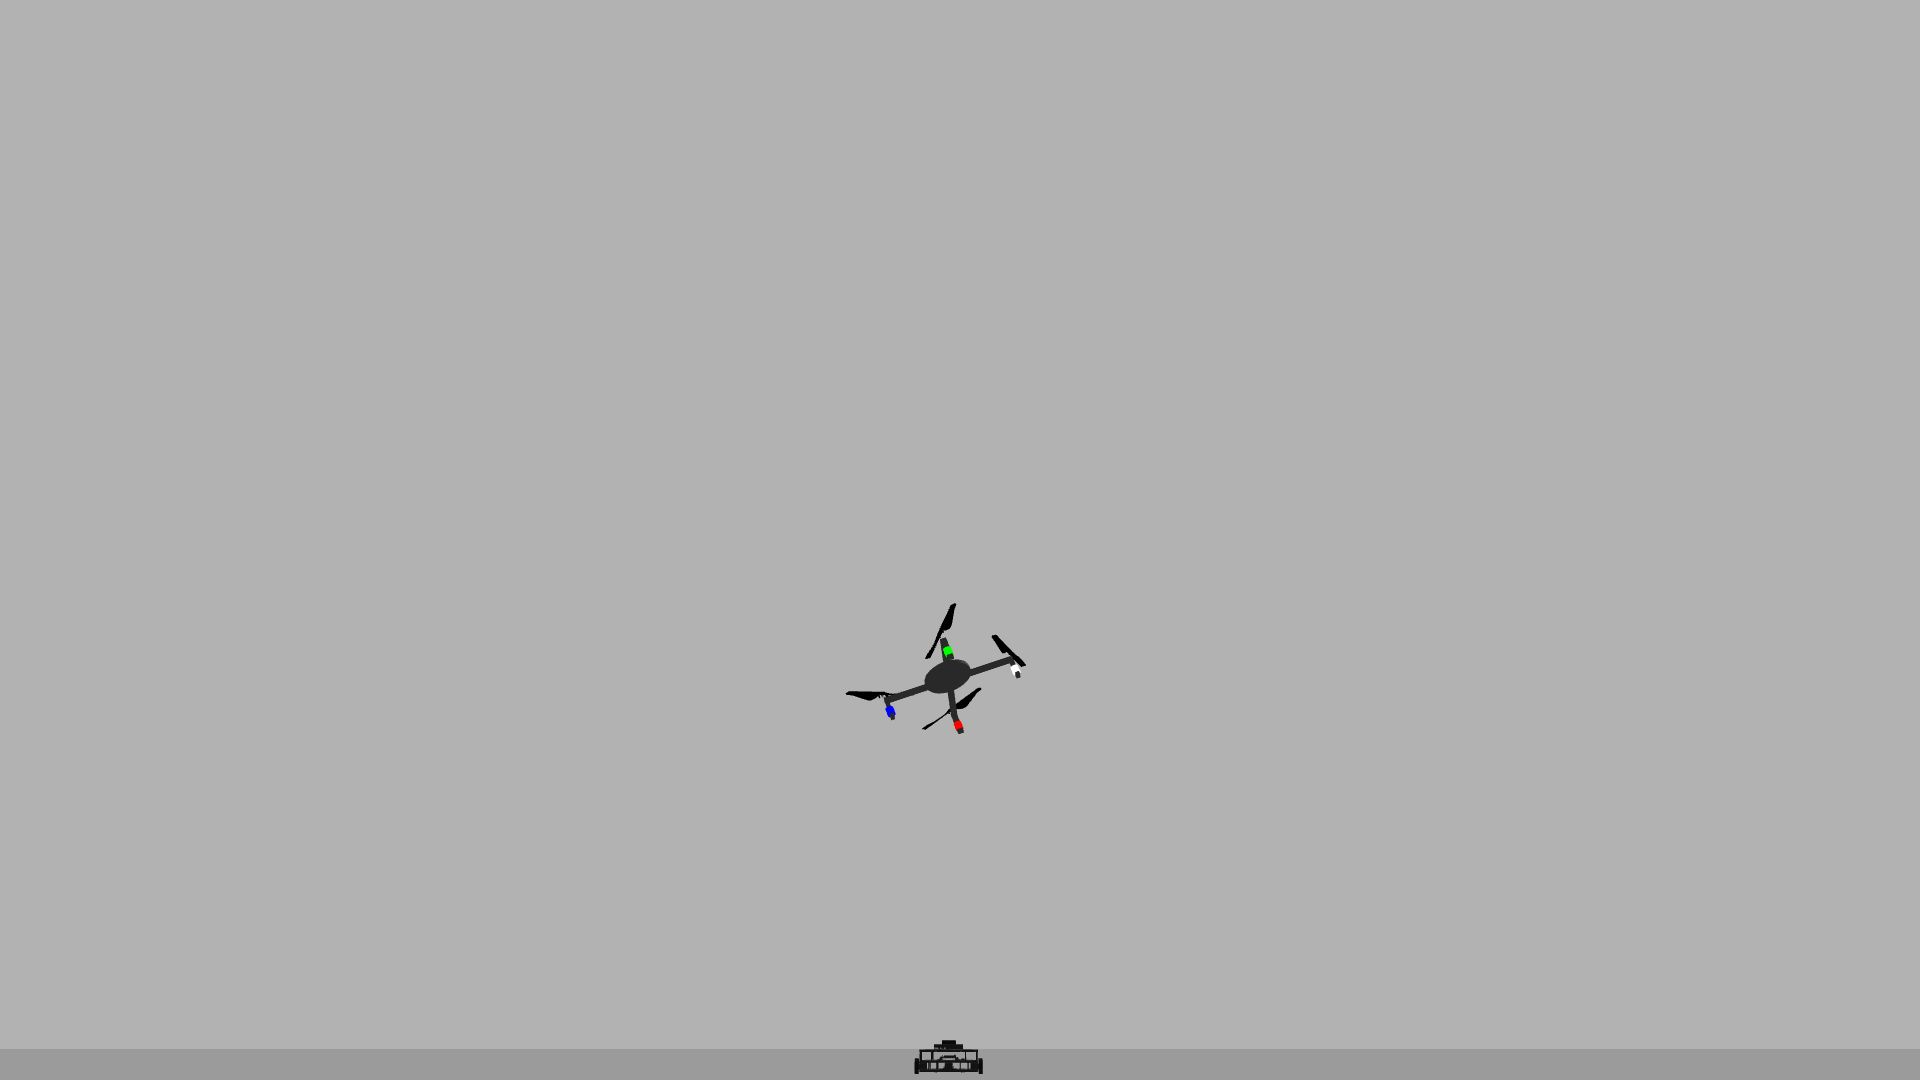drone: (832, 578, 1048, 764)
